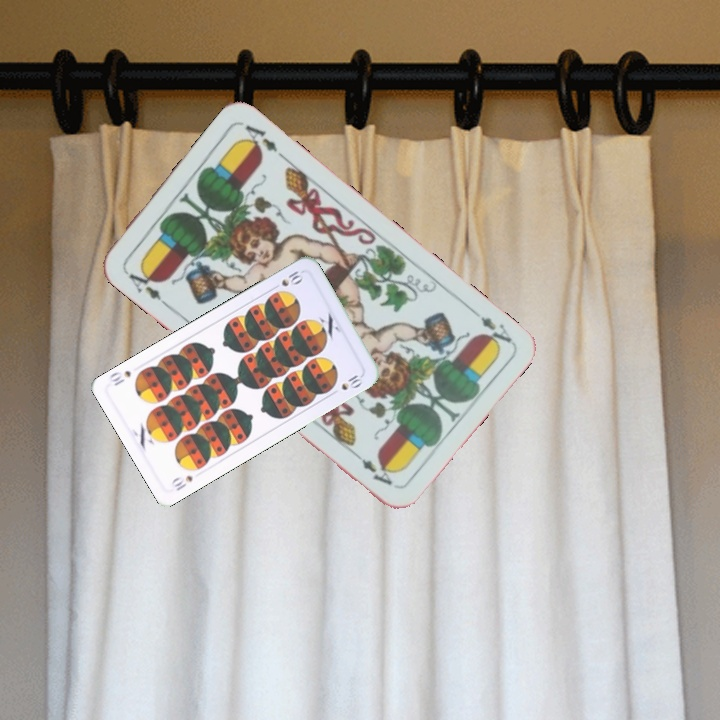EA: (465, 303, 515, 351), (121, 264, 170, 309)
S10: (268, 266, 306, 293), (167, 471, 196, 493)
